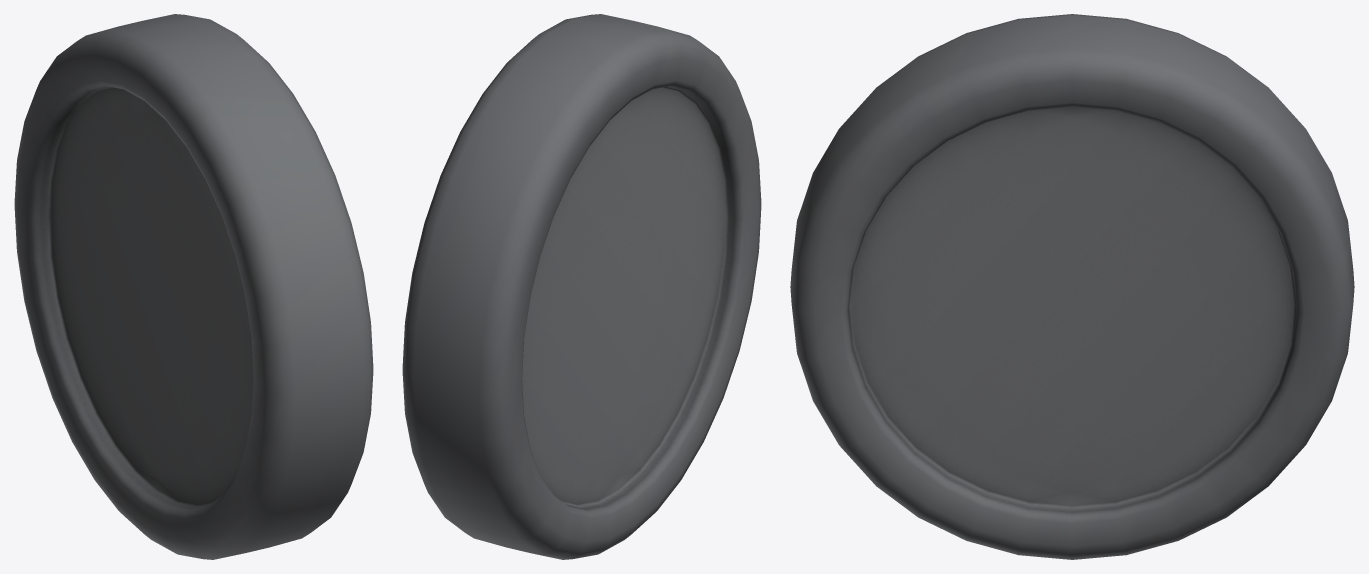
The model's file is coin1-silver.fbx.
The picture shows the model from 3 angles, left to right: view 1: azimuth 30°, elevation 25°; view 2: azimuth 150°, elevation 25°; view 3: azimuth 270°, elevation 25°; orthographic projection. The views are drawn at different scales.
Parts seen in each view (by area): view 1: coin-LP-silver1; view 2: coin-LP-silver1; view 3: coin-LP-silver1.
Boxes of the visible parts, <box> form: coin-LP-silver1: <box>14,14,373,559</box>; coin-LP-silver1: <box>402,14,761,559</box>; coin-LP-silver1: <box>790,14,1354,559</box>.
Size of the model in its own units: 0.0598 by 0.2673 by 0.2673.
Materials: 1 (1 with a texture image).
